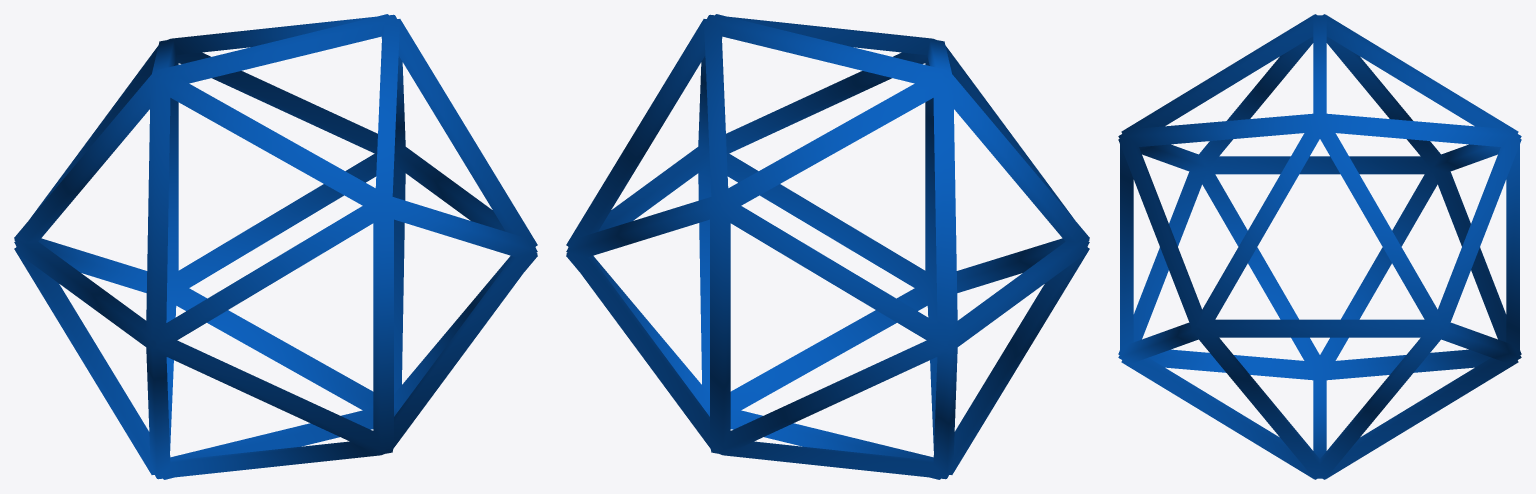
The model's file is d20-wire-blue-mobile.glb.
3 renders of one model, left to right at view 1: azimuth 30°, elevation 25°; view 2: azimuth 150°, elevation 25°; view 3: azimuth 270°, elevation 25°, orthographic. The views are drawn at different scales.
Bounding box in the file's own units: 1.76 × 1.77 × 1.78.
